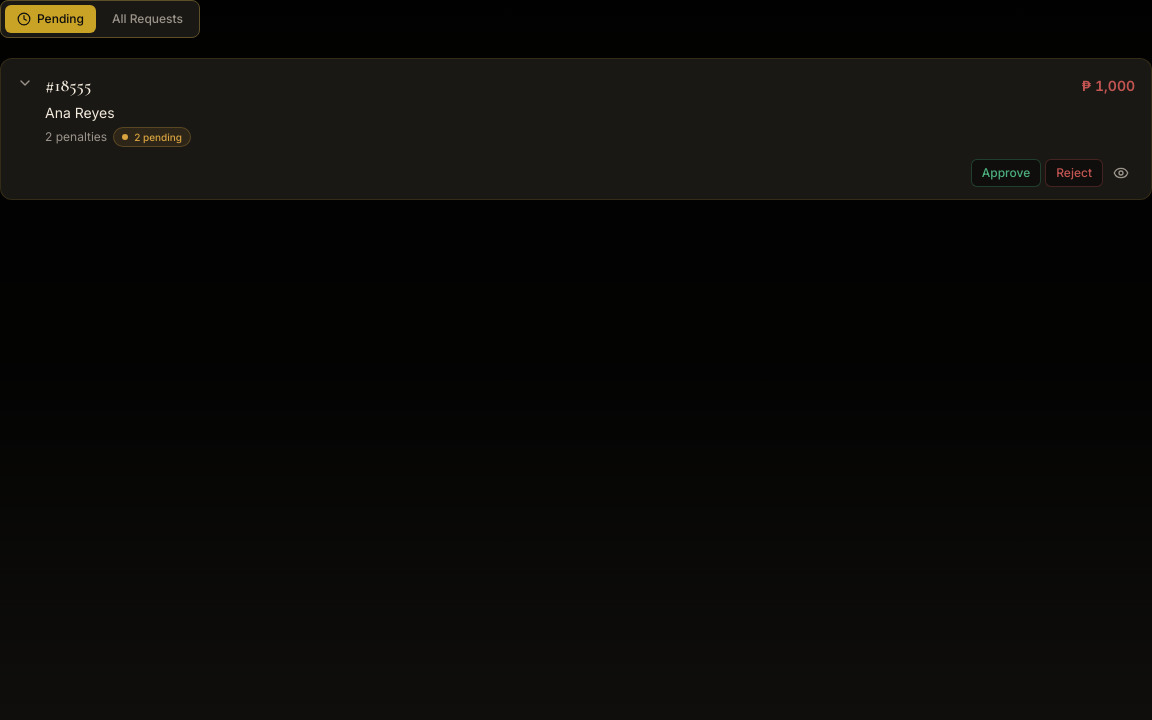
Scenario: Waivers — approve and reject › approve: typed APPROVE gate, then approve-waiver with the selected ids
The width and height of the screenshot is (1152, 720).
Later steps or results of the test are not shown.
Click the button "Approve" at [1006, 173], box [971,159,1041,187]
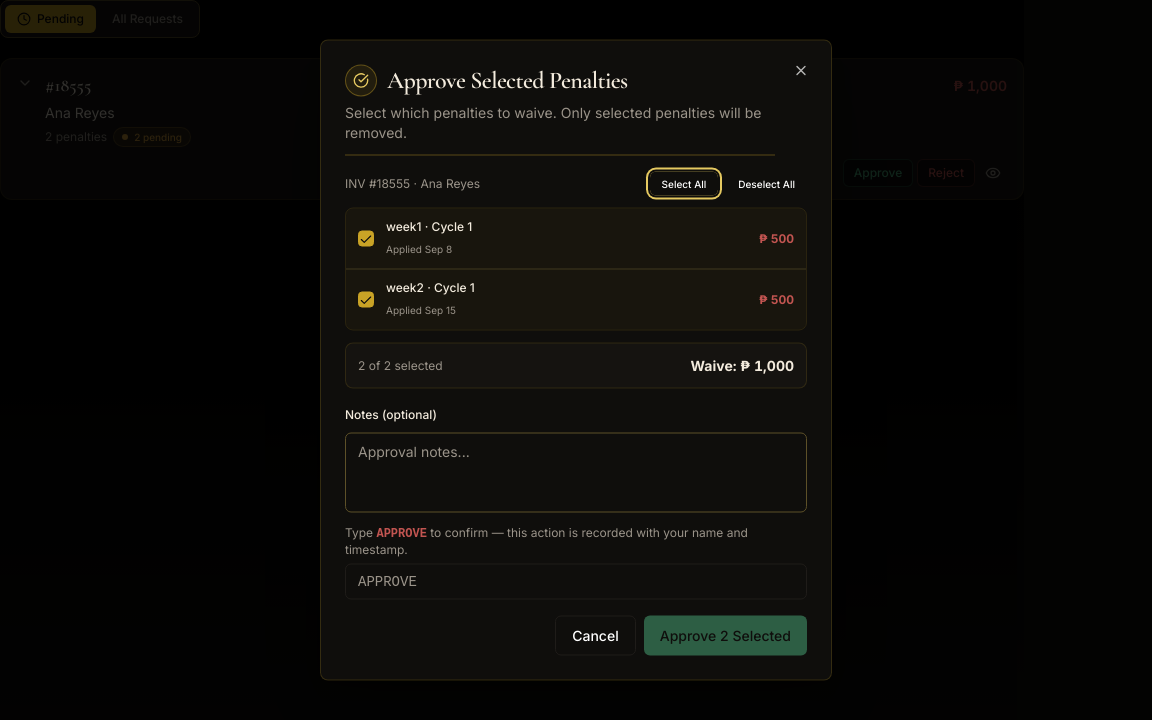
Check: the button "Approve 2 Selected" is disabled, box [644,616,807,656]
